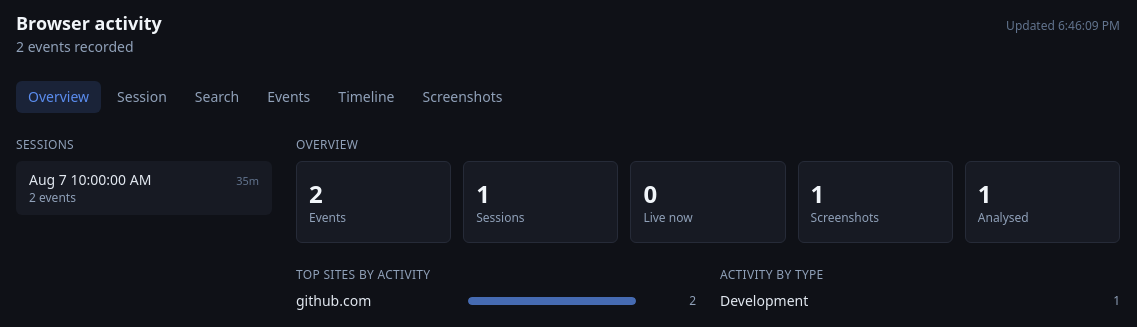
Test: timeline view › shows activities returned by the API
The width and height of the screenshot is (1137, 327).
Expected: the text "github.com" is shown, [296,291,371,310]
Click the button "Timeline" at coordinates (366, 97), box [326,81,406,113]
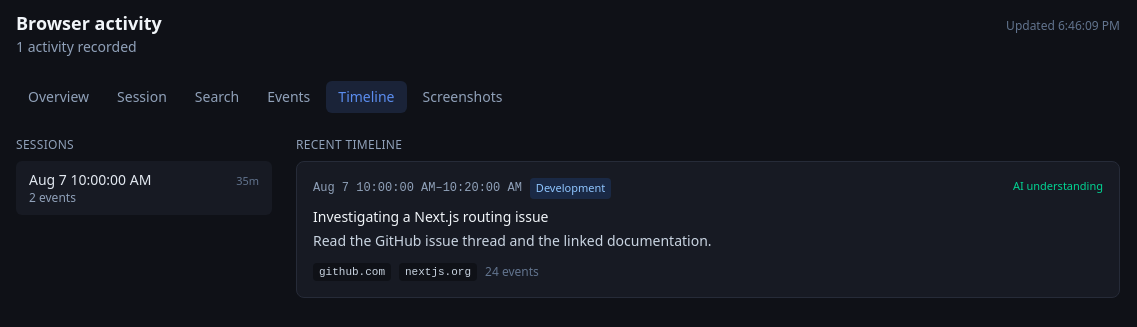
Expected: the heading "Investigating a Next.js routing issue" is shown, [313,206,548,226]
Expected: the text "Read the GitHub issue thread and the linked documentation." is shown, [313,230,712,250]
Expected: the text "AI understanding" is shown, [1013,178,1103,194]
